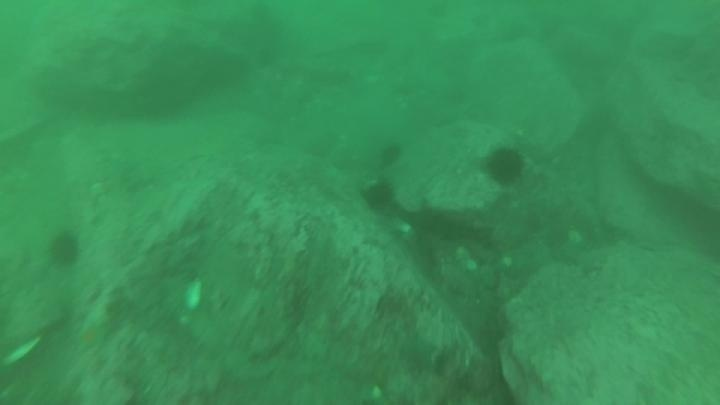echinus: (481, 143, 528, 188), (45, 229, 83, 270), (360, 178, 398, 213), (376, 140, 405, 169)
starfish: (72, 316, 111, 354)
